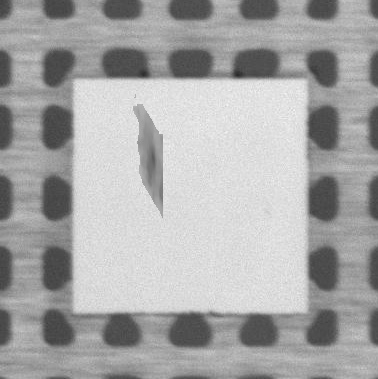DIE_INK: (130, 102, 163, 225)
